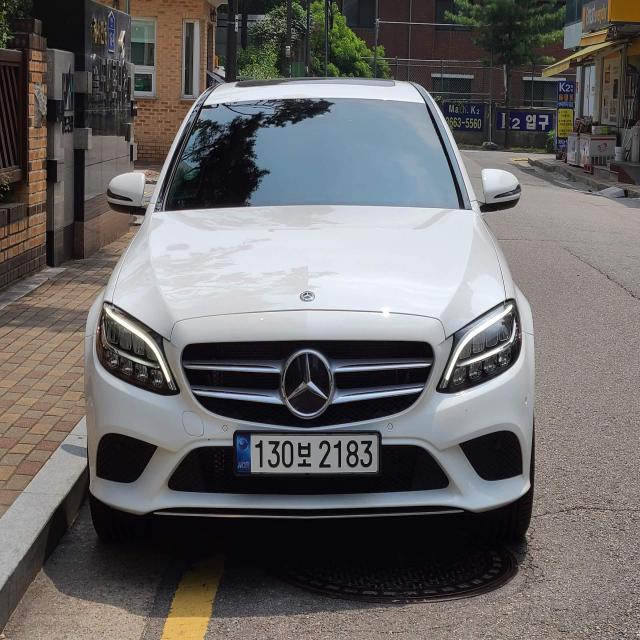car: (75, 69, 545, 574)
illegal_plate: (234, 430, 382, 482)
